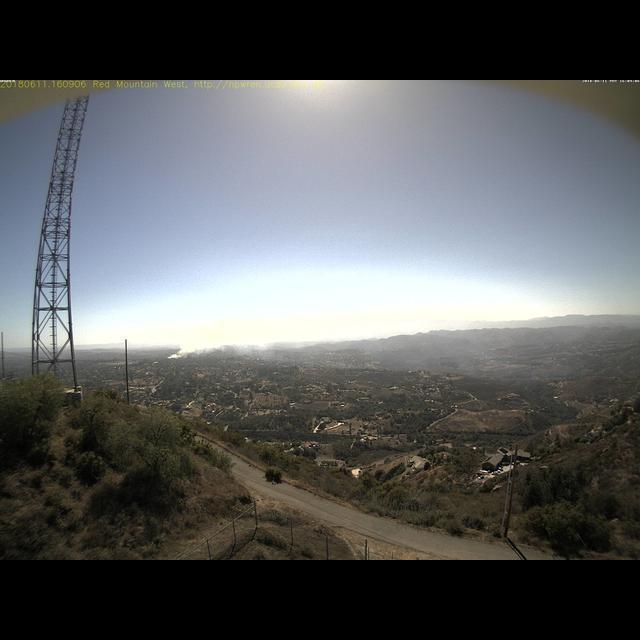Smoke: (164, 329, 295, 362)
